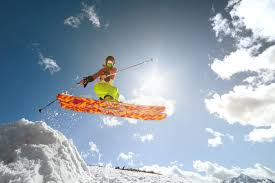skis: (54, 94, 169, 123)
